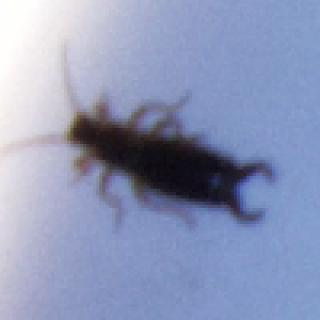earwig: (6, 41, 277, 235)
